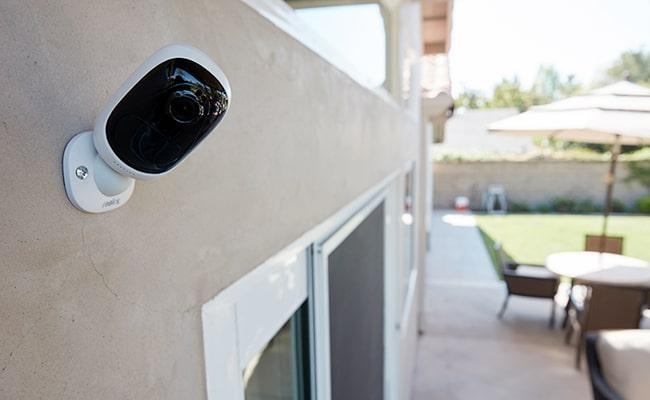Security camera: (61, 42, 231, 214)
